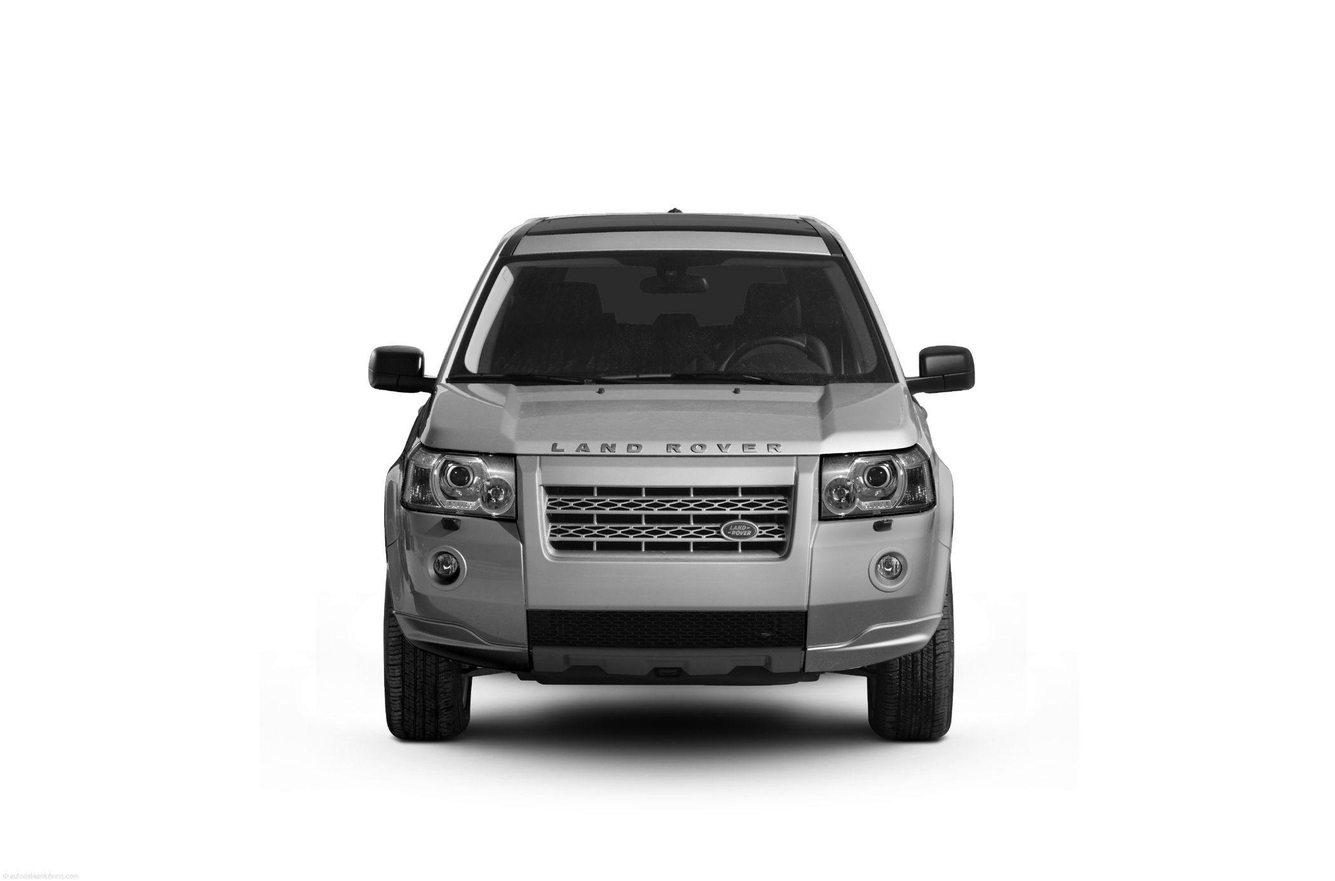car: (366, 208, 975, 741)
